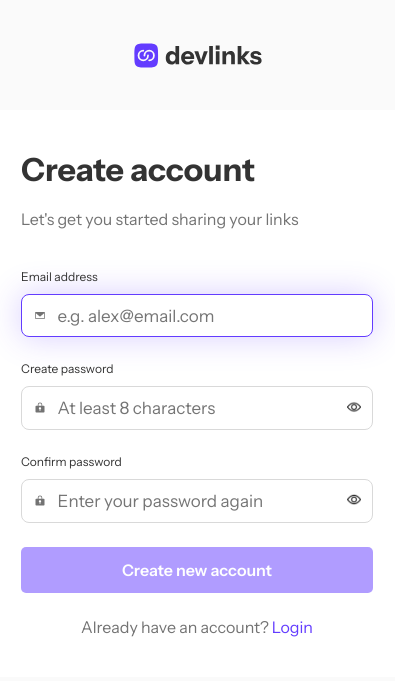
<Register /> › displays error messages if email is not entered
Type "12345678" into the password field with placeholder "At least 8 characters".
click(202, 408); type("12345678")  # box x1=58 y1=398 x2=347 y2=418
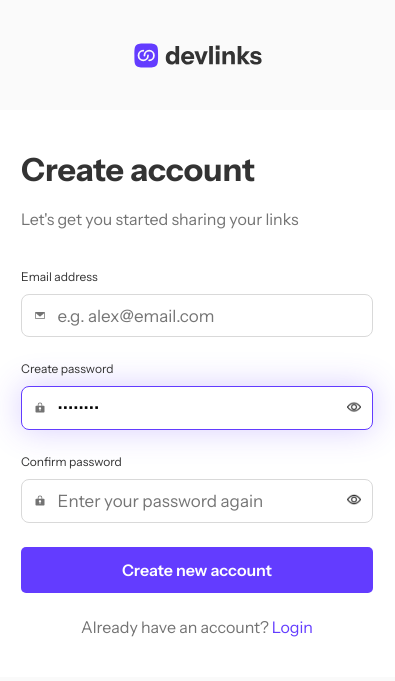
Click the button with test id "register-button".
click(197, 570)  # box x1=21 y1=546 x2=373 y2=592
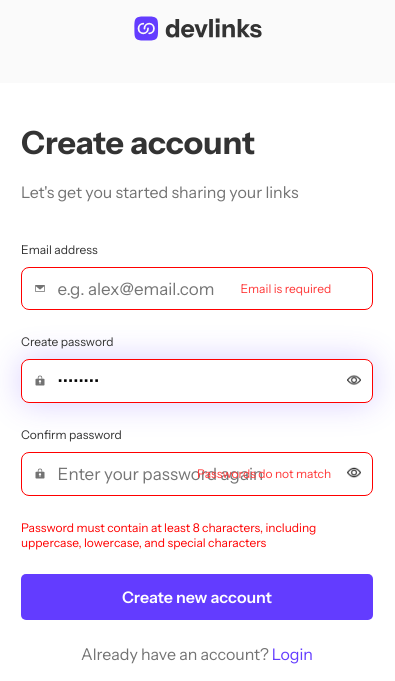
Check: the text "Email is required" is shown, box x1=240 y1=281 x2=331 y2=296
